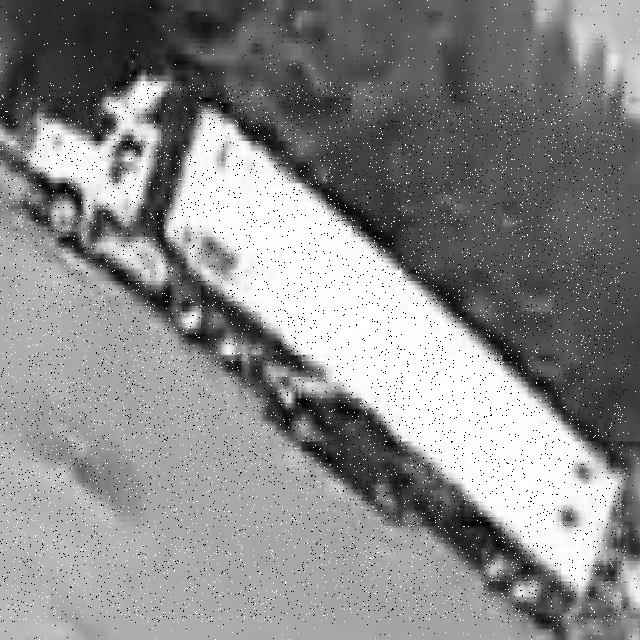Box Truck: (0, 82, 626, 622)
